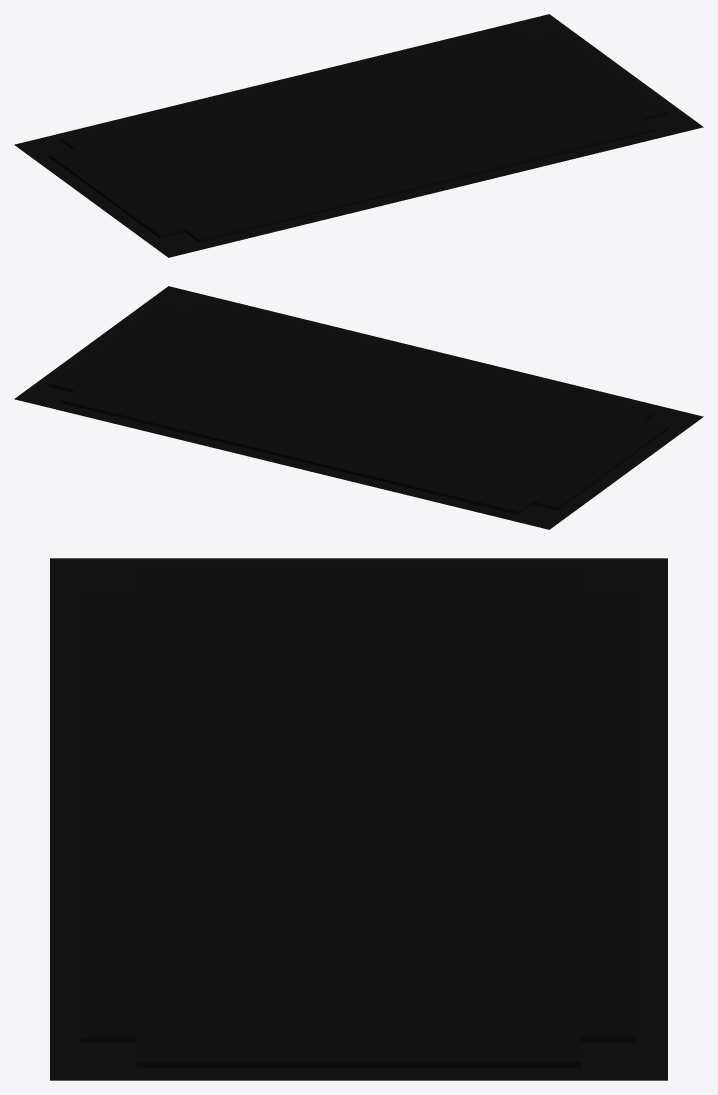
The model's file is Hangar.fbx.
The picture shows the model from 3 angles, top to bottom: view 1: azimuth 30°, elevation 25°; view 2: azimuth 150°, elevation 25°; view 3: azimuth 270°, elevation 25°; orthographic projection. The views are drawn at different scales.
Visible parts, largest first — view 1: Plan.002, Plan.003; view 2: Plan.002, Plan.003; view 3: Plan.002, Plan.003.
Boxes of the visible parts, bbox=[...] form: Plan.002: bbox=[49, 26, 668, 242]; Plan.003: bbox=[14, 14, 703, 257]; Plan.002: bbox=[49, 298, 668, 514]; Plan.003: bbox=[14, 286, 703, 529]; Plan.002: bbox=[80, 565, 637, 1067]; Plan.003: bbox=[50, 558, 667, 1080].
Size of the model in its own units: 400 by 2 by 200.
2 materials, 2 textured.
